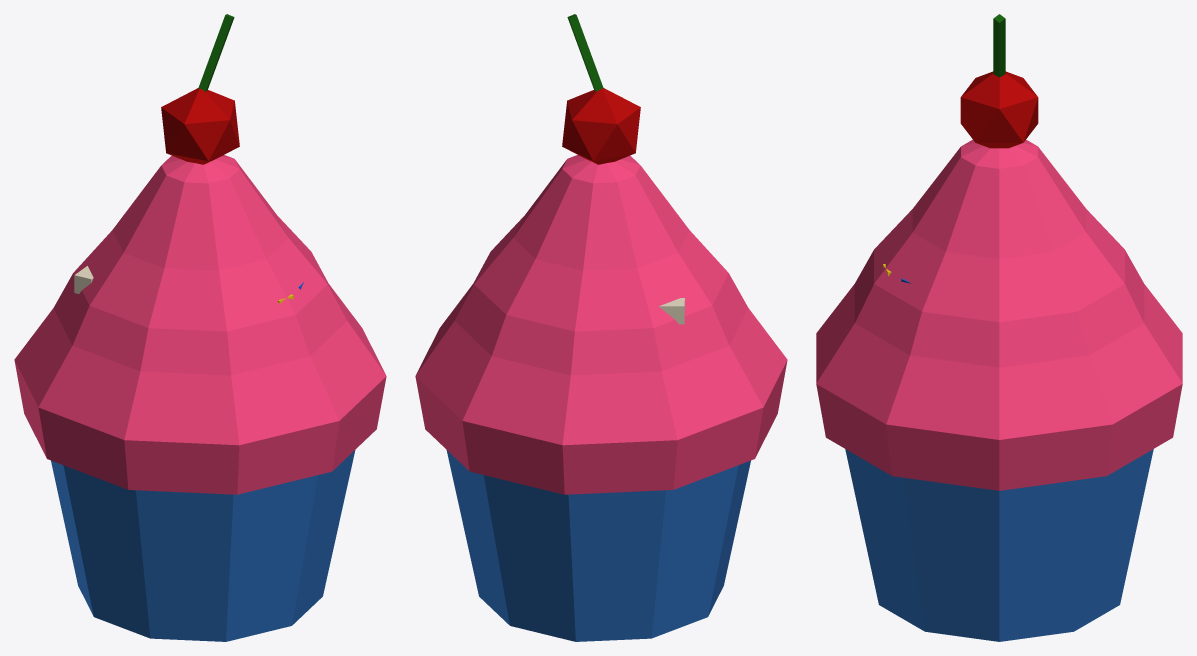
File: cupcake.obj
The picture shows the model from 3 angles, left to right: view 1: azimuth 30°, elevation 25°; view 2: azimuth 150°, elevation 25°; view 3: azimuth 270°, elevation 25°; orthographic projection. The views are drawn at different scales.
Parts seen in each view (by area): view 1: cupcake; view 2: cupcake; view 3: cupcake.
Boxes of the visible parts, left/top/right/bottom form: cupcake: left=14, top=14, right=386, bottom=641; cupcake: left=415, top=14, right=787, bottom=641; cupcake: left=816, top=14, right=1182, bottom=641.
Bounding box in the file's own units: 0.076 × 0.1277 × 0.0723.
